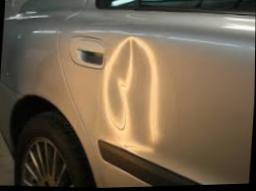Door: (97, 32, 178, 159)
